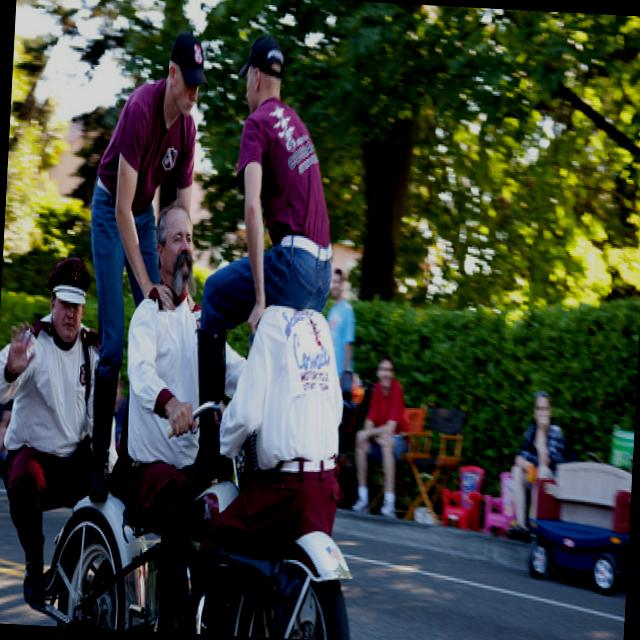Vehicle: (26, 384, 374, 640)
